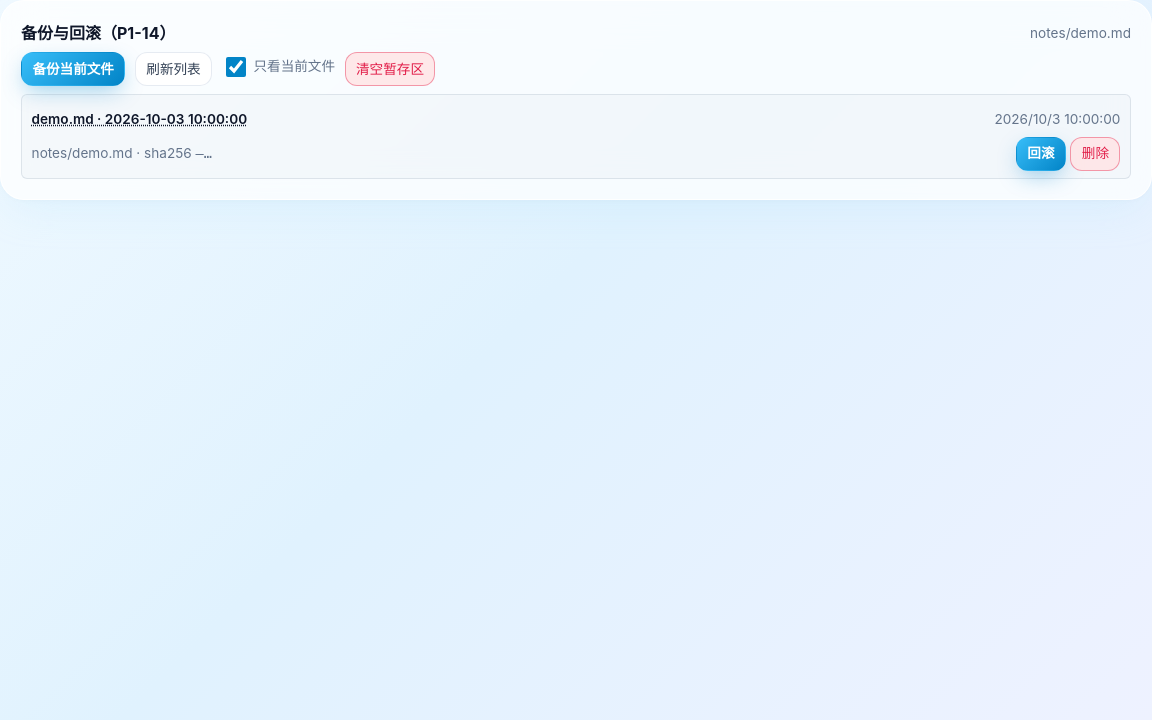
Test: 回滚与哈希一致性 › metadata 缺哈希时退化为与记录内容直接比对
Click the button with test id "rollback-btn-ws_rec_1" at (1041, 154), box [1016, 137, 1066, 171]
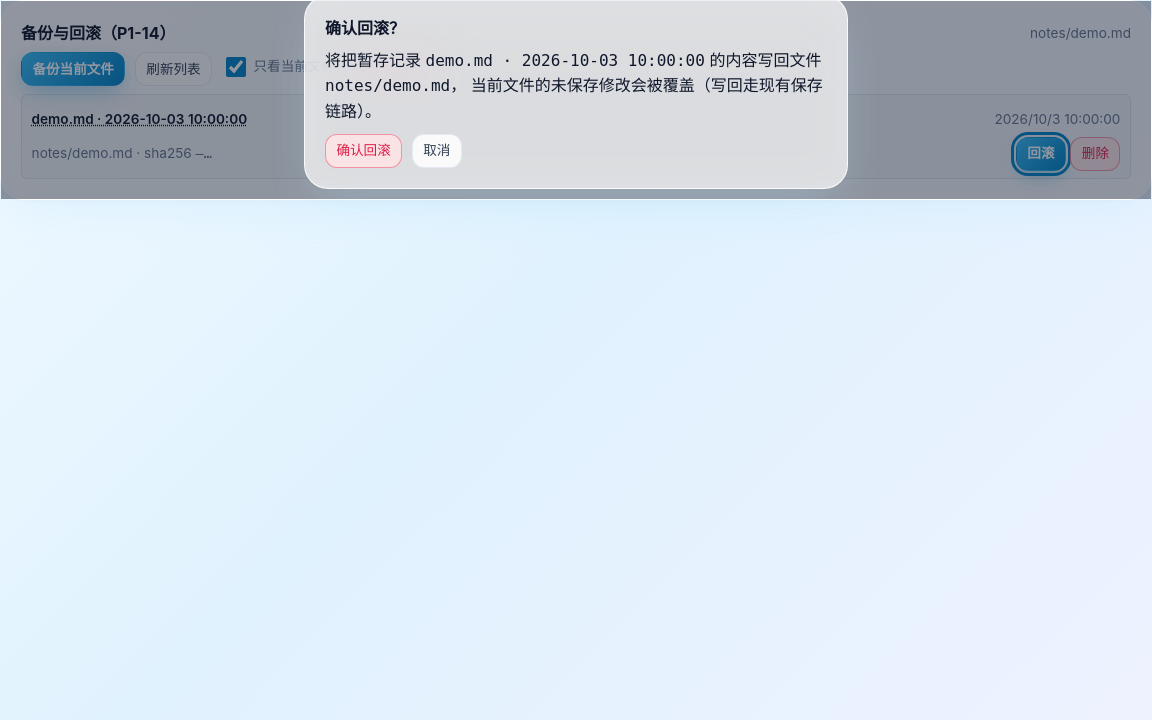
Click the button with test id "confirm-rollback-btn" at (364, 151), box [325, 134, 402, 168]
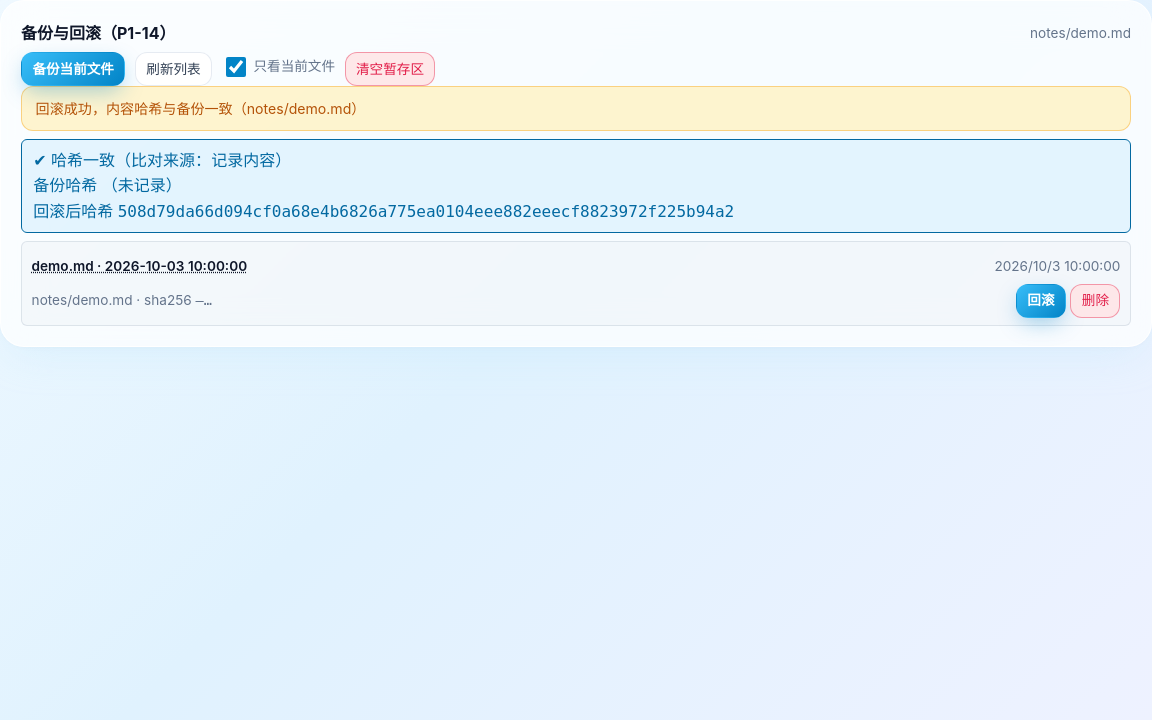
Now the text with test id "verify-backup-hash" reads "（未记录）", box [102, 176, 182, 195]
Now the text "比对来源：记录内容" is shown, box [21, 139, 1131, 233]
